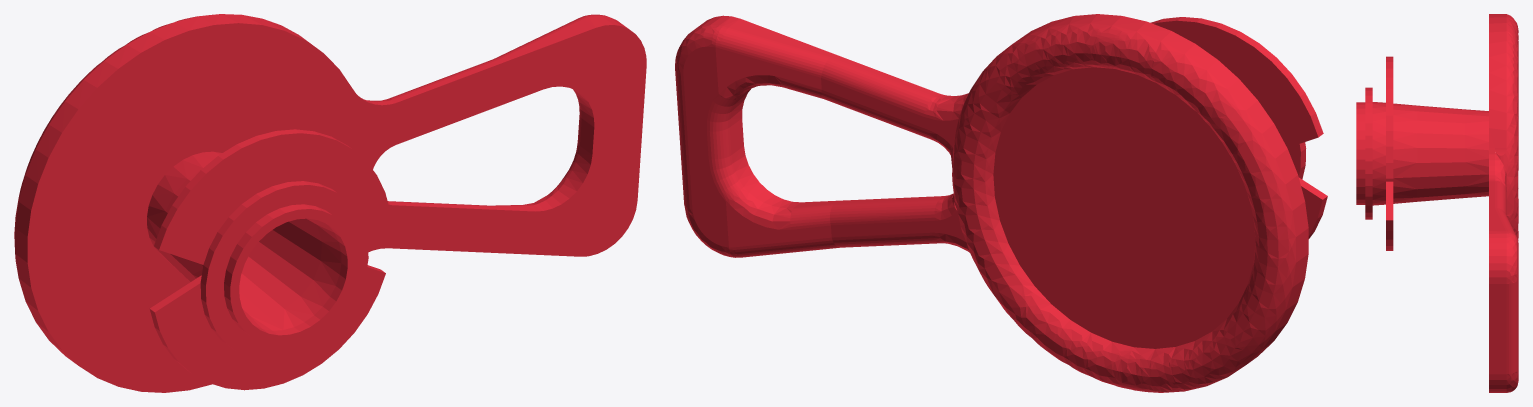
The picture shows the model from 3 angles, left to right: view 1: azimuth 30°, elevation 25°; view 2: azimuth 150°, elevation 25°; view 3: azimuth 270°, elevation 25°; orthographic projection. The views are drawn at different scales.
Visible parts, largest first — view 1: 10068489; view 2: 10068489; view 3: 10068489.
Part boxes in pixels (x1,y1,x2,y2): 10068489: [14, 14, 646, 392]; 10068489: [675, 14, 1327, 392]; 10068489: [1356, 14, 1518, 392].
Bounding box in the file's own units: 1 × 0.5552 × 0.322.
